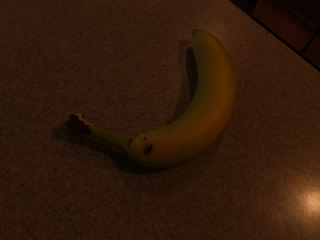banana: (51, 18, 245, 180)
